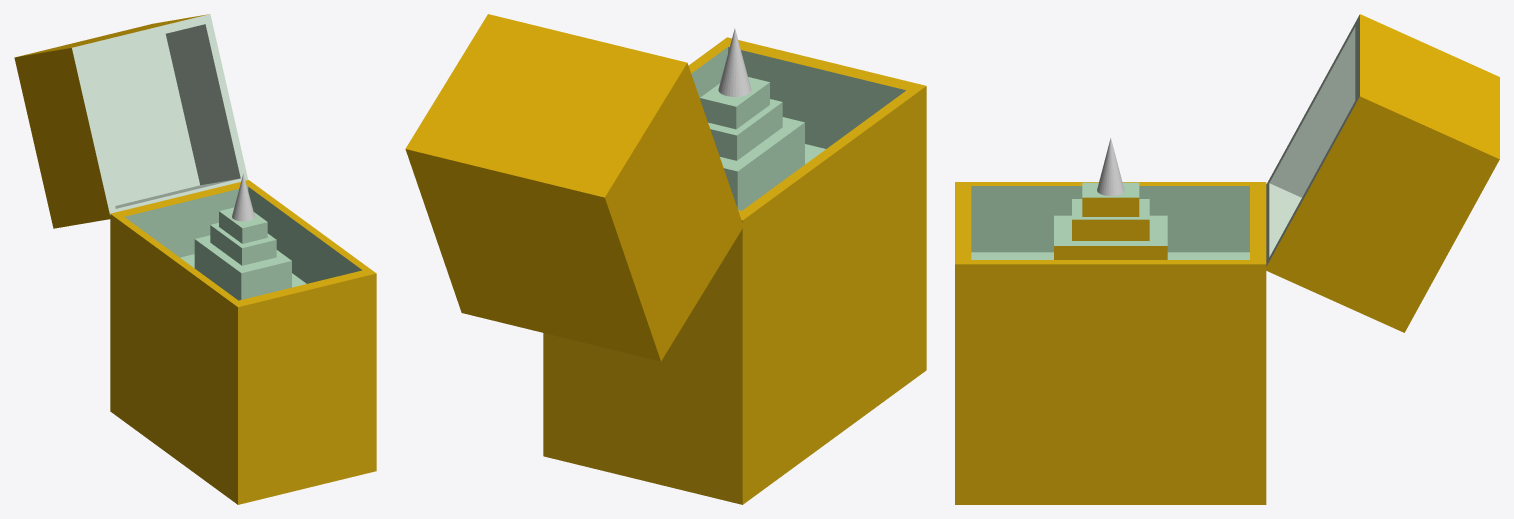
The model's file is lighter 1.3.fbx.
The picture shows the model from 3 angles, left to right: view 1: azimuth 30°, elevation 25°; view 2: azimuth 150°, elevation 25°; view 3: azimuth 270°, elevation 25°; orthographic projection. The views are drawn at different scales.
Parts seen in each view (by area): view 1: Cube.001; view 2: Cube.001; view 3: Cube.001.
Boxes of the visible parts, <box> form: Cube.001: <box>14,14,376,504</box>; Cube.001: <box>405,14,926,504</box>; Cube.001: <box>955,14,1499,504</box>.
Bounding box in the file's own units: 132 × 306 × 370.
